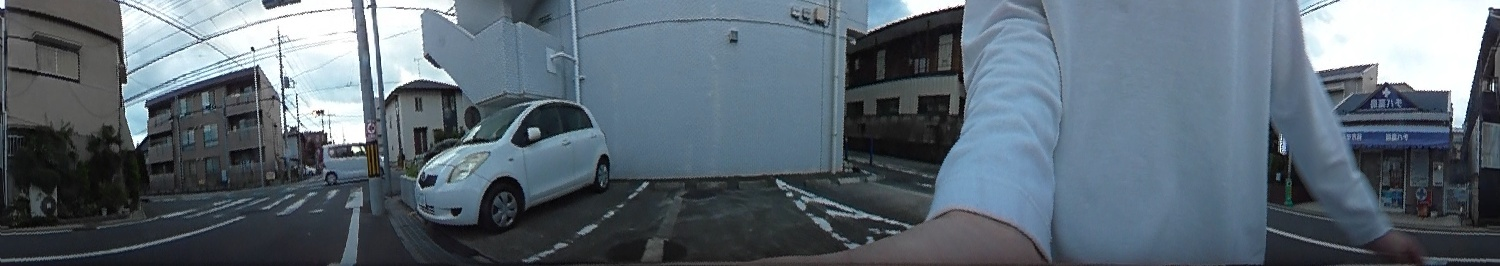difficult_person: (396, 143, 405, 166)
